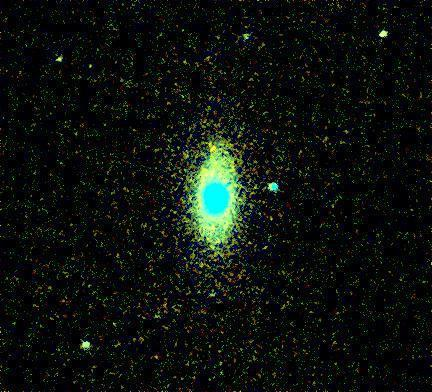star: (198, 131, 228, 161)
